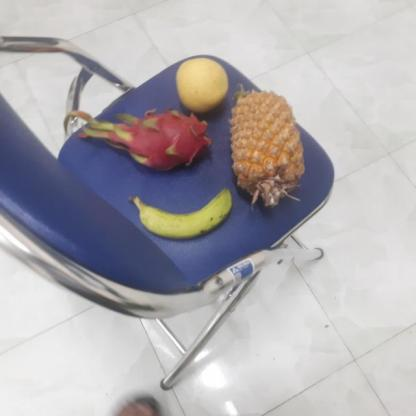banana: (136, 182, 229, 238)
pear: (175, 58, 229, 112)
pineapple: (226, 89, 306, 207)
pitaya: (99, 110, 209, 173)
